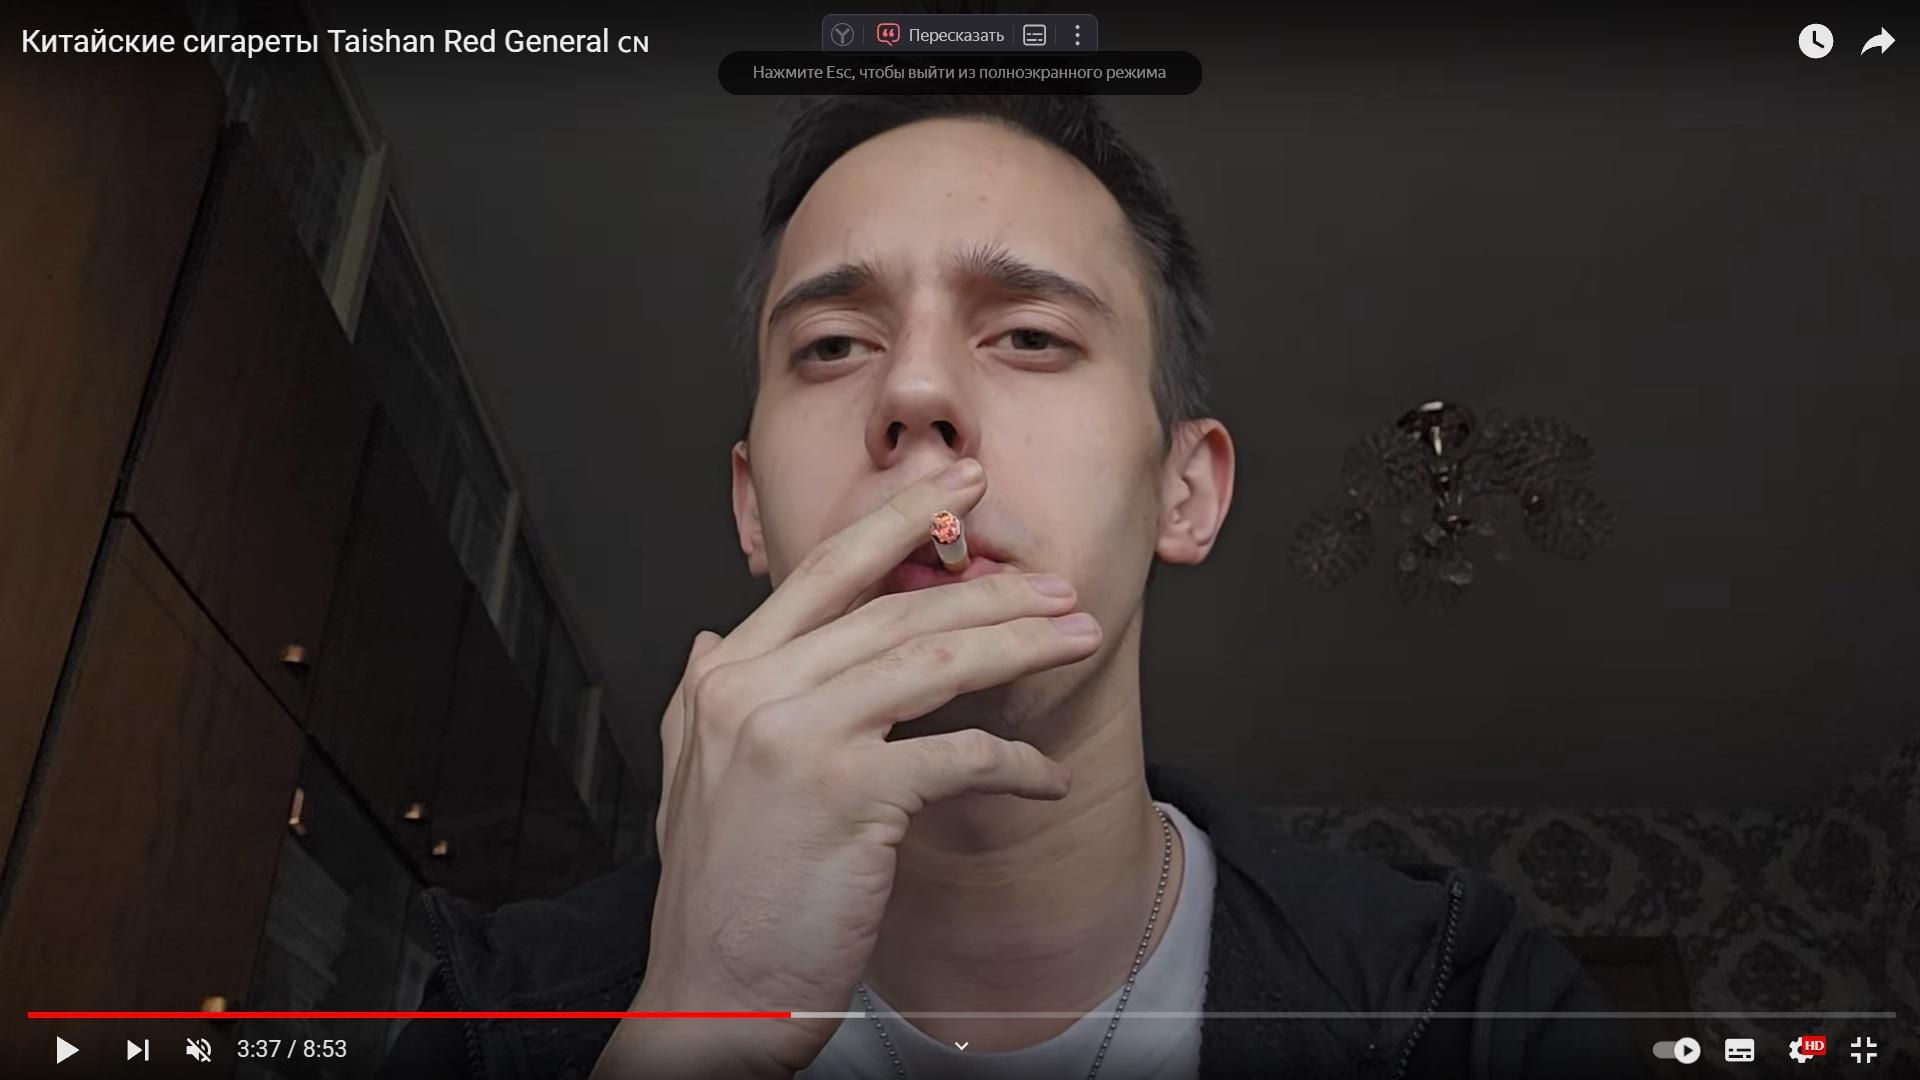cigarette: (930, 510, 968, 570)
